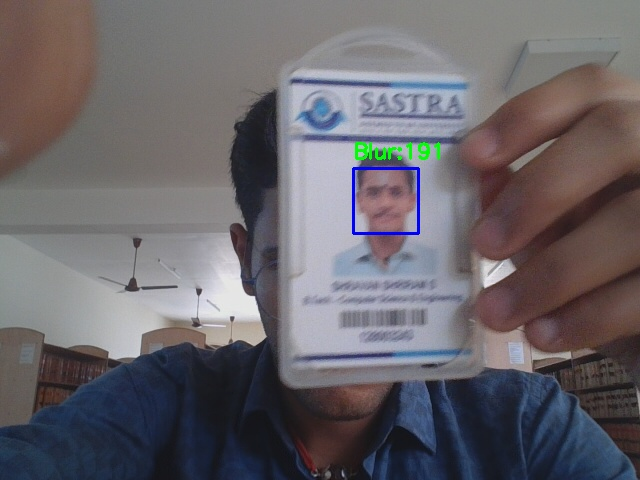fake: (353, 168, 418, 233)
